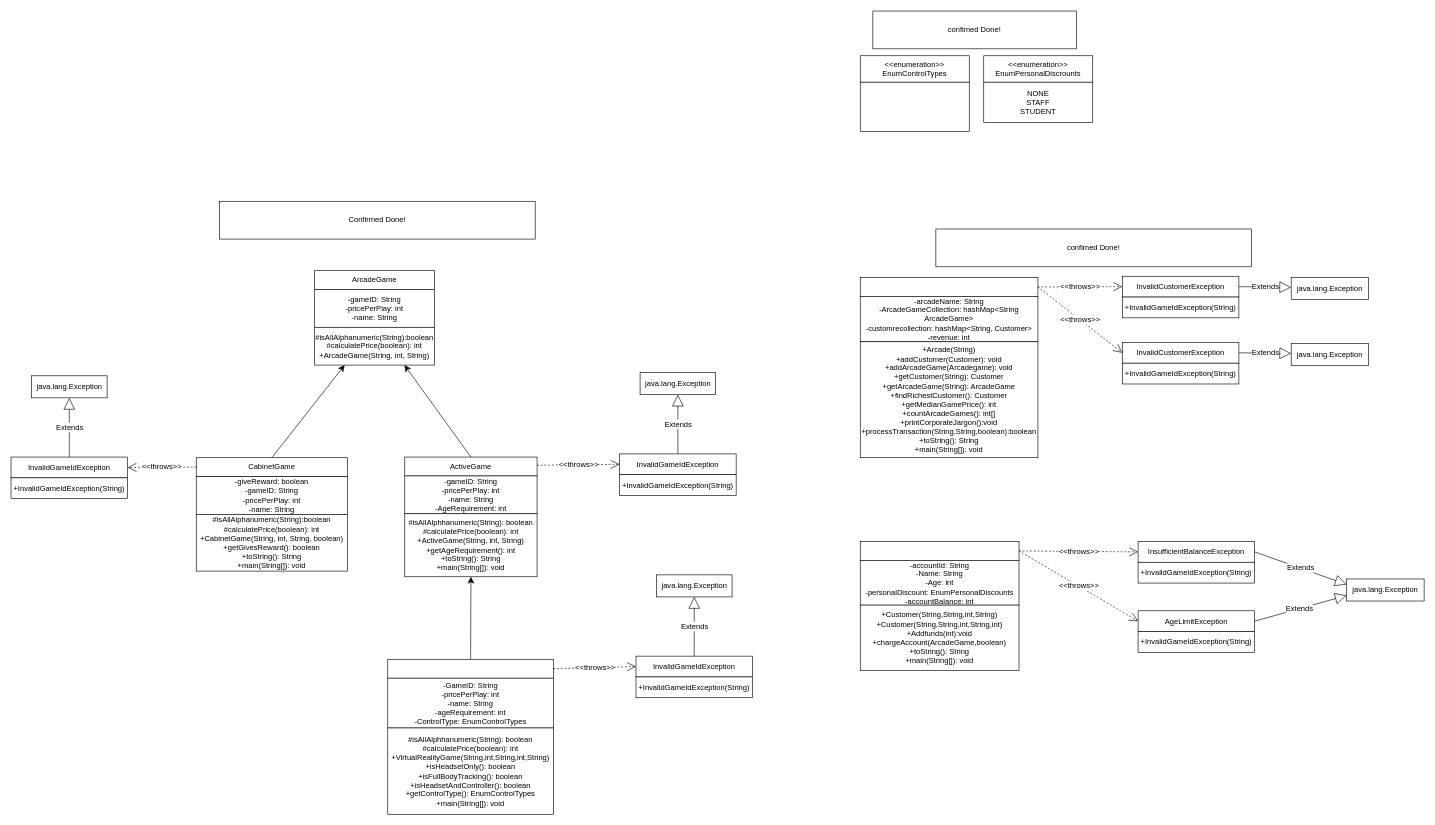
Some shapes in this 1435 by 825 pixel diagram are drawn without their labels. Here are the shapes that lost their labels. From the top down, the centre of each, then its label:
At point 914,106: "HEADSETONLY FULLBODYTRACKING HEADSETANDCONTROLLER".
At point 949,286: "Arcade".
At point 939,550: "Customer".
At point 470,668: "VirtualRealityGame".
